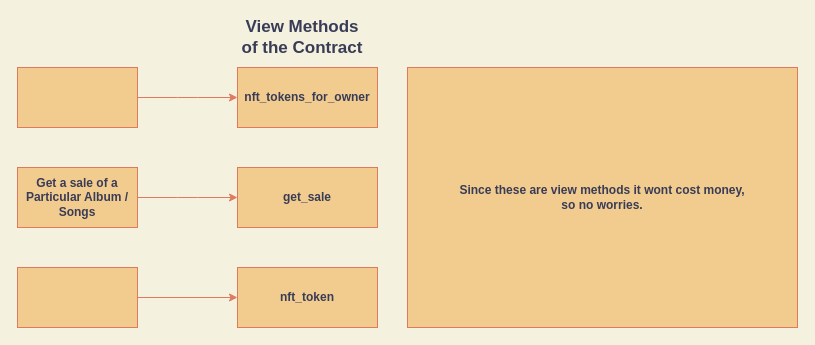
Image size: 815x345. Some labels were removed from this diagram. Here are the shapes that lost their labels. From the top down, the box of each, then its label:
(16, 66, 138, 128): Get all NFT tokens of a User
(16, 266, 138, 328): Get owner of a single NFT token
